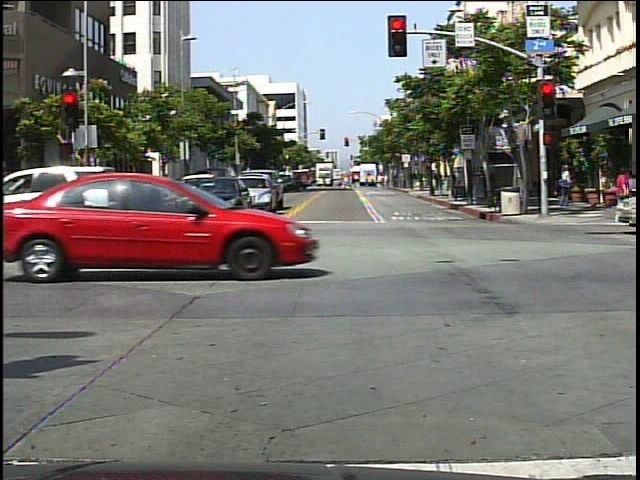person: (62, 171, 93, 235), (611, 166, 637, 228), (555, 162, 578, 213)
